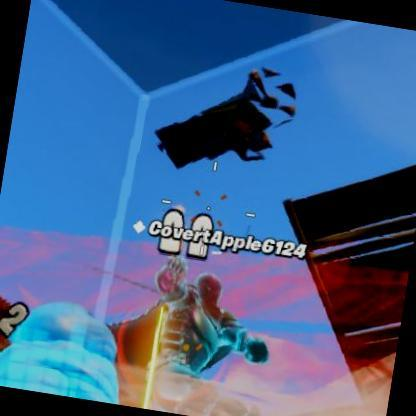person: (143, 269, 242, 411)
